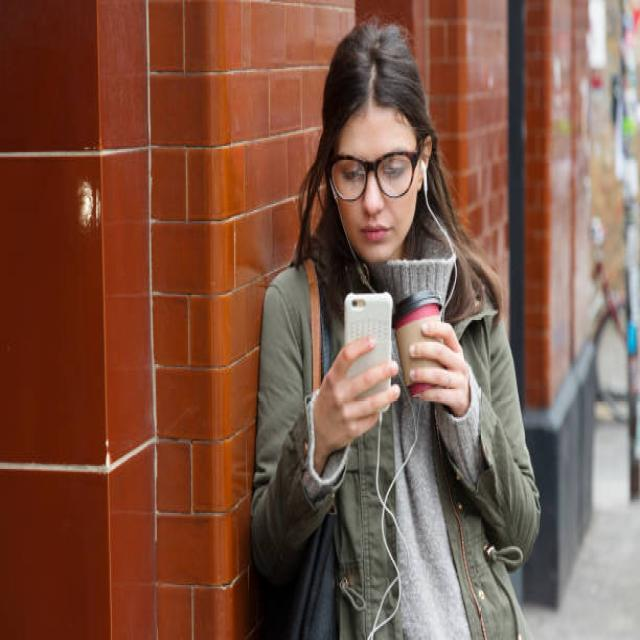Earphone: (328, 156, 458, 640)
